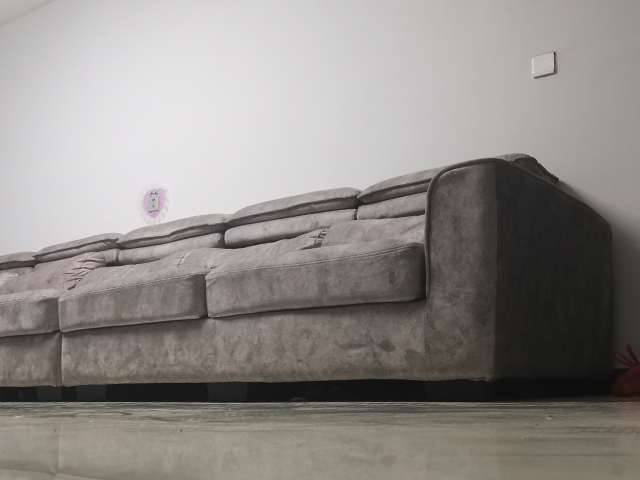sofa: (1, 150, 618, 403)
